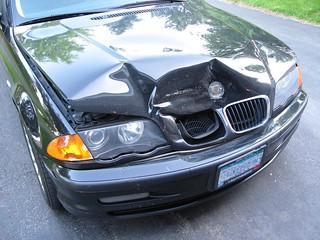bonnet-dent: (34, 24, 269, 105)
